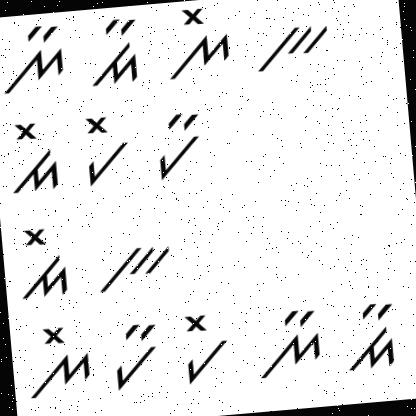dan: (83, 15, 149, 96), (338, 296, 400, 376)
do: (12, 218, 75, 304), (0, 116, 62, 196)
nan: (254, 304, 326, 386), (0, 21, 70, 99)
no: (162, 0, 237, 82), (22, 321, 96, 401)
pan: (106, 314, 164, 393), (149, 110, 207, 180)
po: (176, 306, 233, 388), (76, 112, 133, 188)
